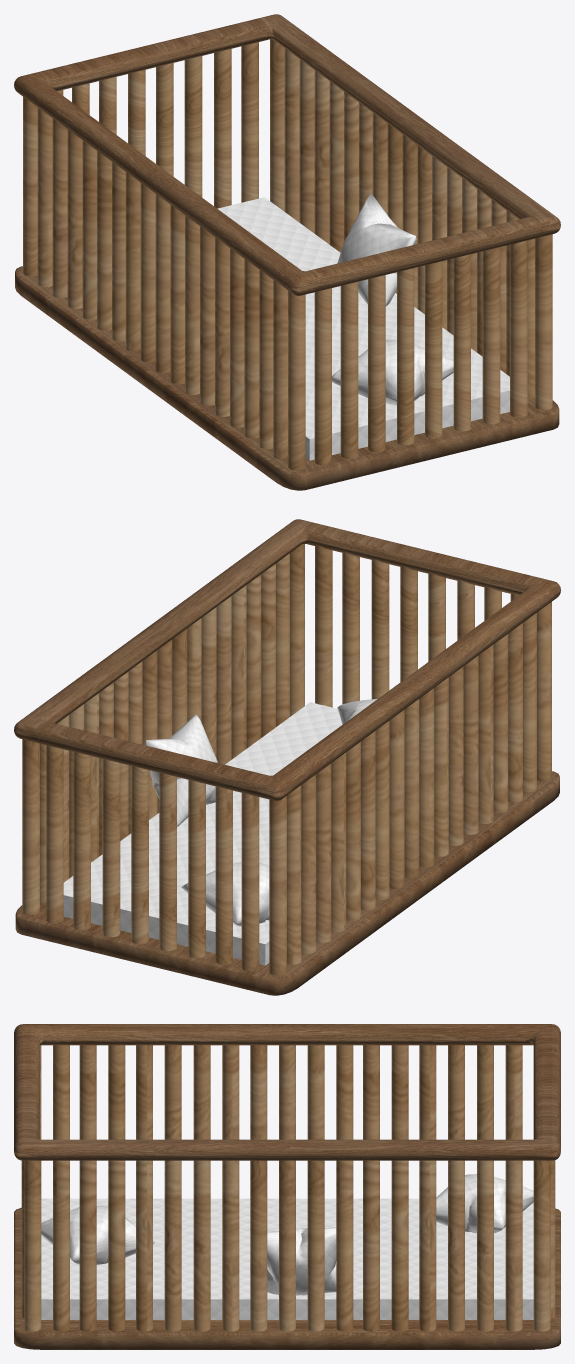
The model's file is CRADLE 1.fbx.
3 renders of one model, top to bottom at view 1: azimuth 30°, elevation 25°; view 2: azimuth 150°, elevation 25°; view 3: azimuth 270°, elevation 25°, orthographic. The views are drawn at different scales.
Parts seen in each view (by area): view 1: Cradle; view 2: Cradle; view 3: Cradle.
Boxes of the visible parts, left/top/right/bottom form: Cradle: left=14, top=14, right=560, bottom=490; Cradle: left=14, top=519, right=560, bottom=995; Cradle: left=14, top=1024, right=560, bottom=1349.
Bounding box in the file's own units: 204 × 148 × 363.
Materials: 3 (3 with a texture image).
